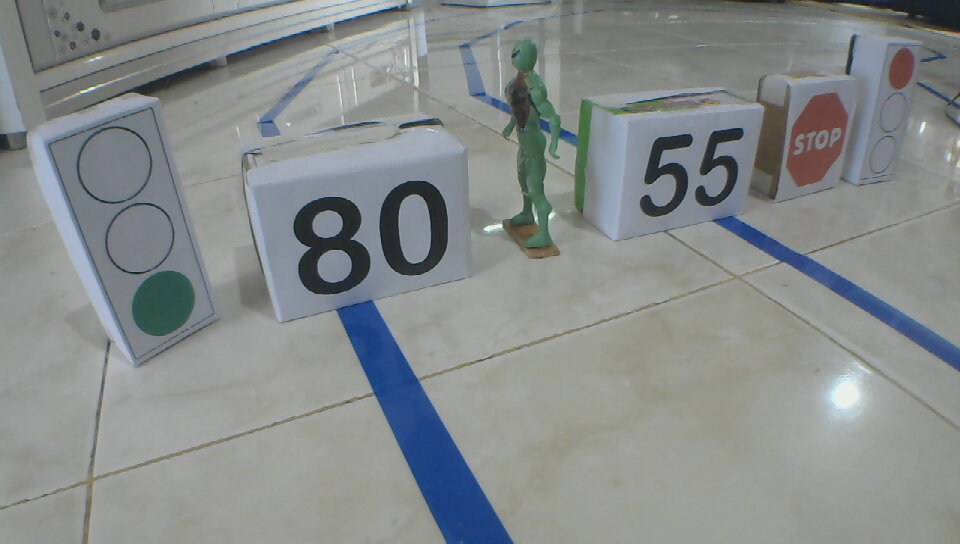Green Light: (74, 124, 199, 338)
Person: (500, 38, 561, 252)
Red Light: (865, 45, 916, 176)
Speed 55: (638, 124, 744, 218)
Speed 80: (292, 179, 450, 297)
Stop: (784, 90, 847, 187)
